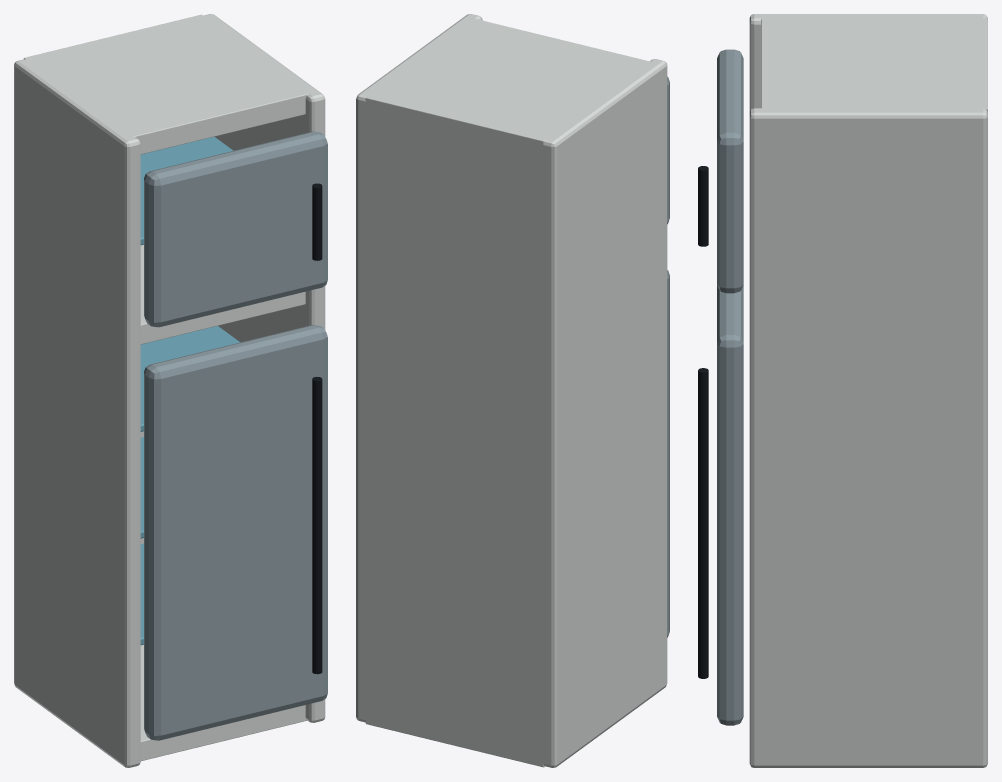
The picture shows the model from 3 angles, left to right: view 1: azimuth 30°, elevation 25°; view 2: azimuth 150°, elevation 25°; view 3: azimuth 270°, elevation 25°; orthographic projection. The views are drawn at different scales.
Parts seen in each view (by area): view 1: BODY_Side.001, DOOR_Panel, DOOR_Panel.001, BODY_Slab, BODY_Side, HANDLE, BODY_Slab.001, BODY_Slab.002, INTERIOR_Shelf.002, INTERIOR_Shelf.003, BODY_Back, HANDLE.001; view 2: BODY_Back, BODY_Side.001, BODY_Slab, BODY_Side, DOOR_Panel; view 3: BODY_Side, BODY_Slab, DOOR_Panel, DOOR_Panel.001, HANDLE, BODY_Side.001, BODY_Back, HANDLE.001.
Part boxes in pixels (x1,y1,x2,y2): BODY_Side.001: (14, 59, 140, 767); DOOR_Panel: (144, 325, 327, 740); DOOR_Panel.001: (144, 131, 327, 327); BODY_Slab: (30, 18, 308, 154); BODY_Side: (203, 14, 325, 722); HANDLE: (312, 377, 322, 674); BODY_Slab.001: (140, 644, 306, 761); BODY_Slab.002: (140, 244, 305, 344); INTERIOR_Shelf.002: (140, 326, 240, 431); INTERIOR_Shelf.003: (140, 136, 233, 245); BODY_Back: (23, 14, 206, 544); HANDLE.001: (312, 183, 322, 260); BODY_Back: (365, 91, 548, 767); BODY_Side.001: (543, 59, 667, 767); BODY_Slab: (372, 18, 650, 136); BODY_Side: (356, 14, 482, 722); DOOR_Panel: (667, 270, 669, 637); BODY_Side: (749, 108, 987, 767); BODY_Slab: (761, 18, 975, 108); DOOR_Panel: (717, 285, 743, 725); DOOR_Panel.001: (717, 49, 743, 293); HANDLE: (698, 368, 708, 678); BODY_Side.001: (749, 14, 987, 111); BODY_Back: (970, 18, 987, 112); HANDLE.001: (698, 166, 708, 246).
Bounding box in the file's own units: 0.63 × 1.88 × 0.754.
